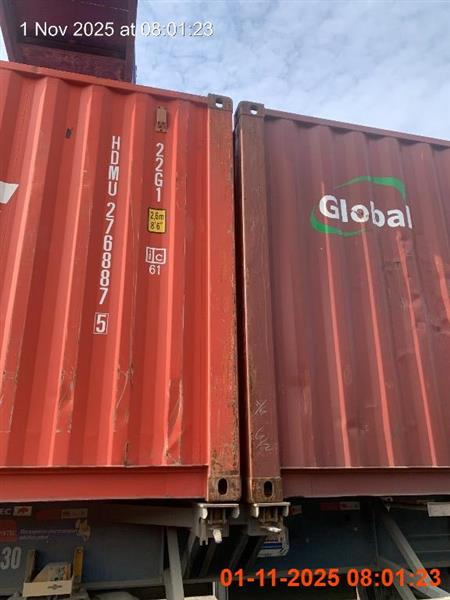broken: (2, 8, 448, 598), (1, 24, 448, 599)
